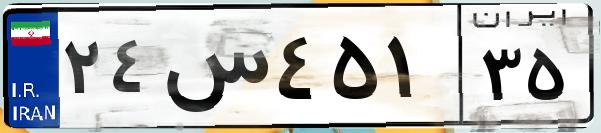1: (385, 28, 445, 110)
2: (57, 26, 110, 100)
3: (475, 38, 525, 113)
4: (270, 28, 330, 110), (110, 28, 158, 98)
5: (330, 28, 385, 110), (525, 38, 570, 115)
س: (158, 20, 270, 120)
